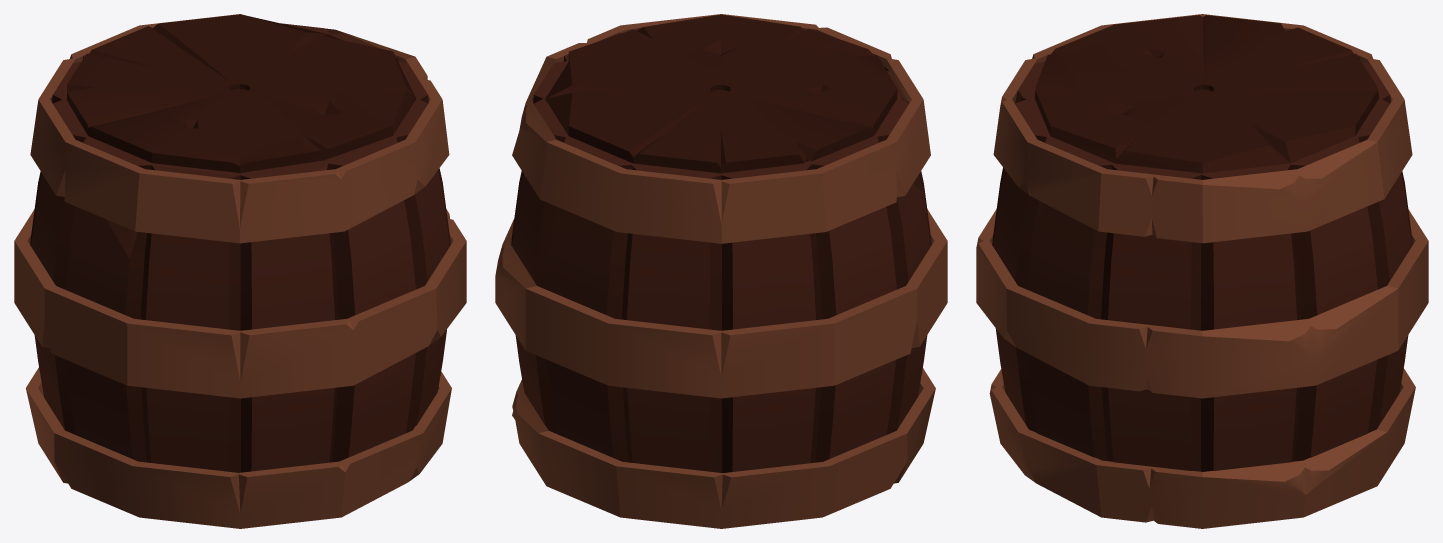
File: Barrel.fbx
The picture shows the model from 3 angles, left to right: view 1: azimuth 30°, elevation 25°; view 2: azimuth 150°, elevation 25°; view 3: azimuth 270°, elevation 25°; orthographic projection.
Visible parts, largest first — view 1: Barrel; view 2: Barrel; view 3: Barrel.
Part boxes in pixels (<box>): Barrel: <box>14,14,466,528</box>; Barrel: <box>495,14,947,528</box>; Barrel: <box>976,14,1428,528</box>.
Bounding box in the file's own units: 2.37 × 2.07 × 2.37.
